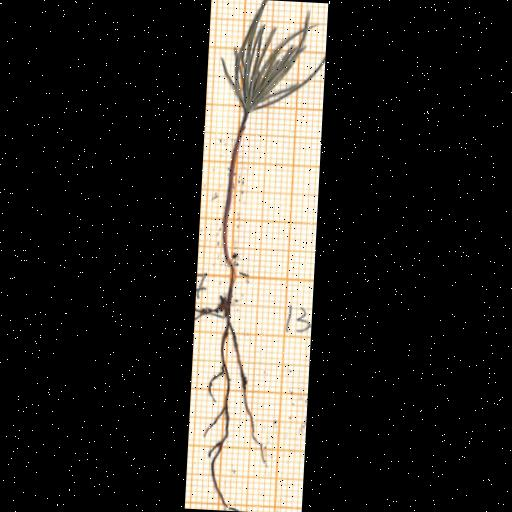flowerPinus: (222, 1, 325, 114)
rootPinus: (195, 272, 266, 511)
stemPinus: (221, 112, 246, 267)
